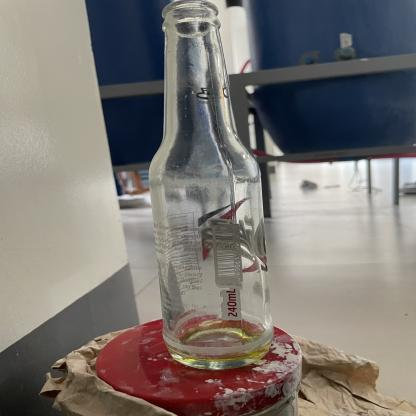Can: (140, 0, 285, 370)
